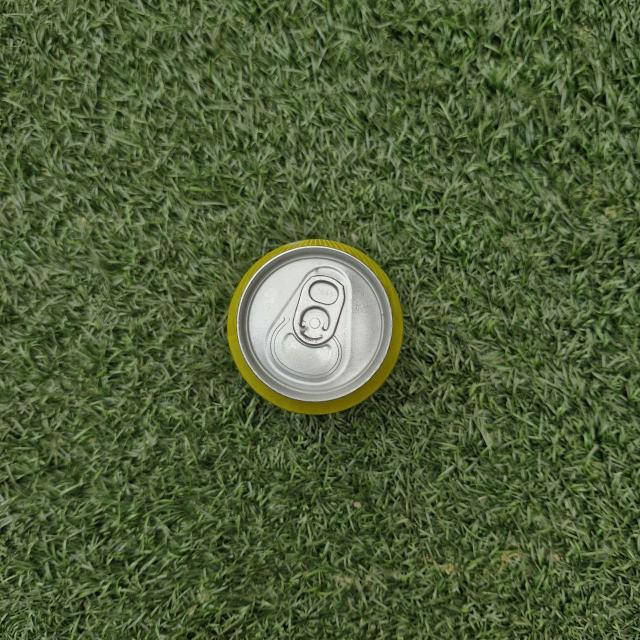metal: (222, 224, 416, 416)
